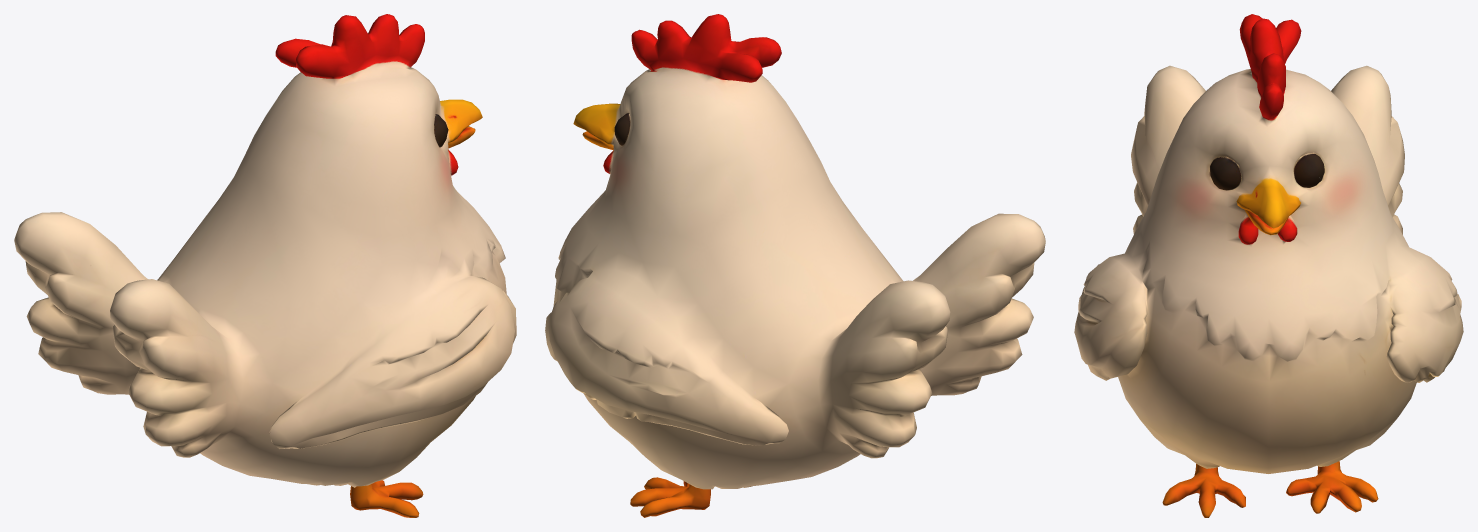
File: chicken.glb
The picture shows the model from 3 angles, left to right: view 1: azimuth 30°, elevation 25°; view 2: azimuth 150°, elevation 25°; view 3: azimuth 270°, elevation 25°; orthographic projection.
Parts seen in each view (by area): view 1: tripo_node_0373a6d7-3694-4dce-9482-3872d4ee4345; view 2: tripo_node_0373a6d7-3694-4dce-9482-3872d4ee4345; view 3: tripo_node_0373a6d7-3694-4dce-9482-3872d4ee4345.
Part boxes in pixels (x1,y1,x2,y2): tripo_node_0373a6d7-3694-4dce-9482-3872d4ee4345: (14, 14, 516, 517); tripo_node_0373a6d7-3694-4dce-9482-3872d4ee4345: (545, 14, 1045, 517); tripo_node_0373a6d7-3694-4dce-9482-3872d4ee4345: (1074, 14, 1463, 517).
Bounding box in the file's own units: 0.9434 × 0.998 × 0.7402.
Materials: 1 (1 with a texture image).
